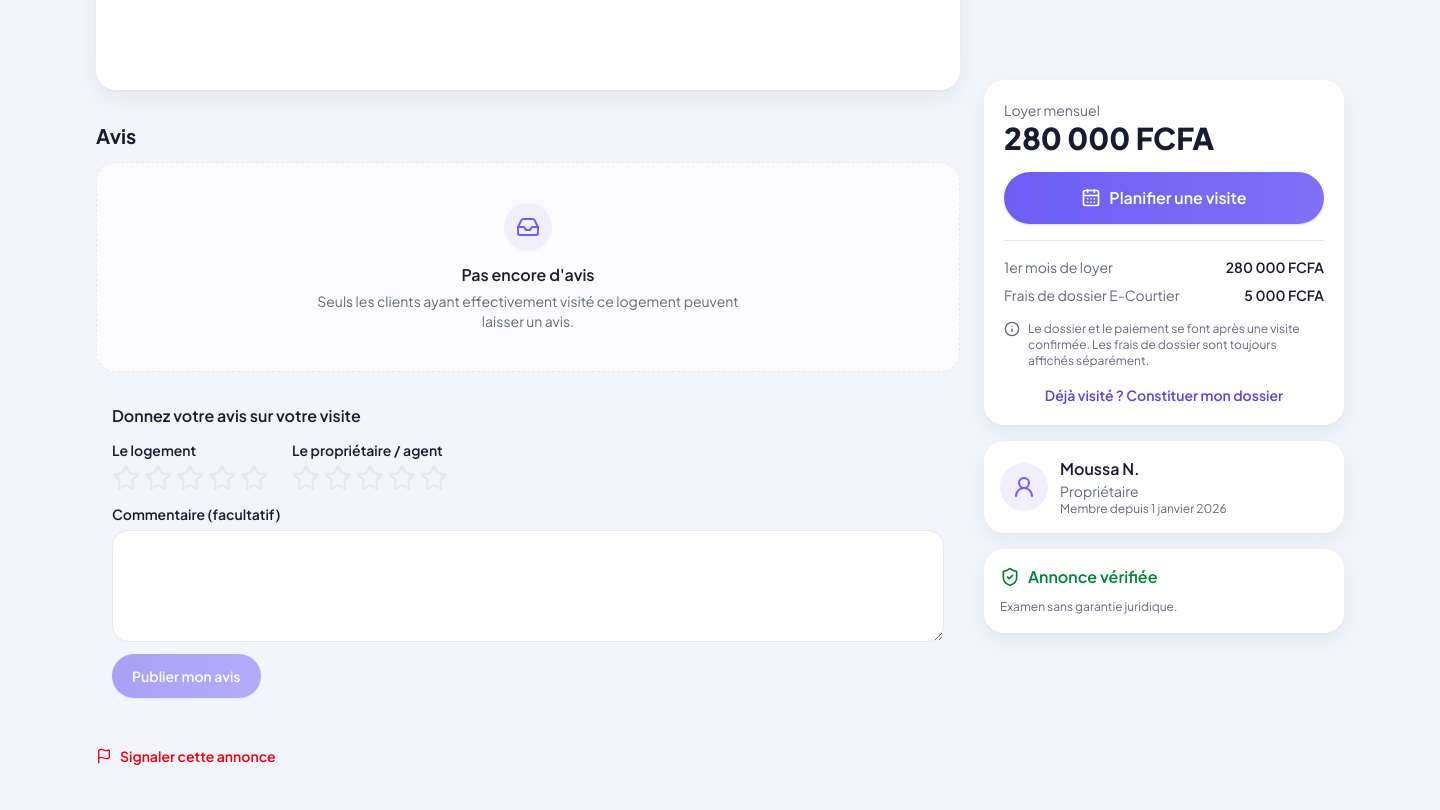
Test: Fiche logement › permet de signaler une annonce une fois connecté
(page scrolled)
Click the button "Signaler cette annonce" at {"x": 186, "y": 756}, box [96, 746, 276, 766]
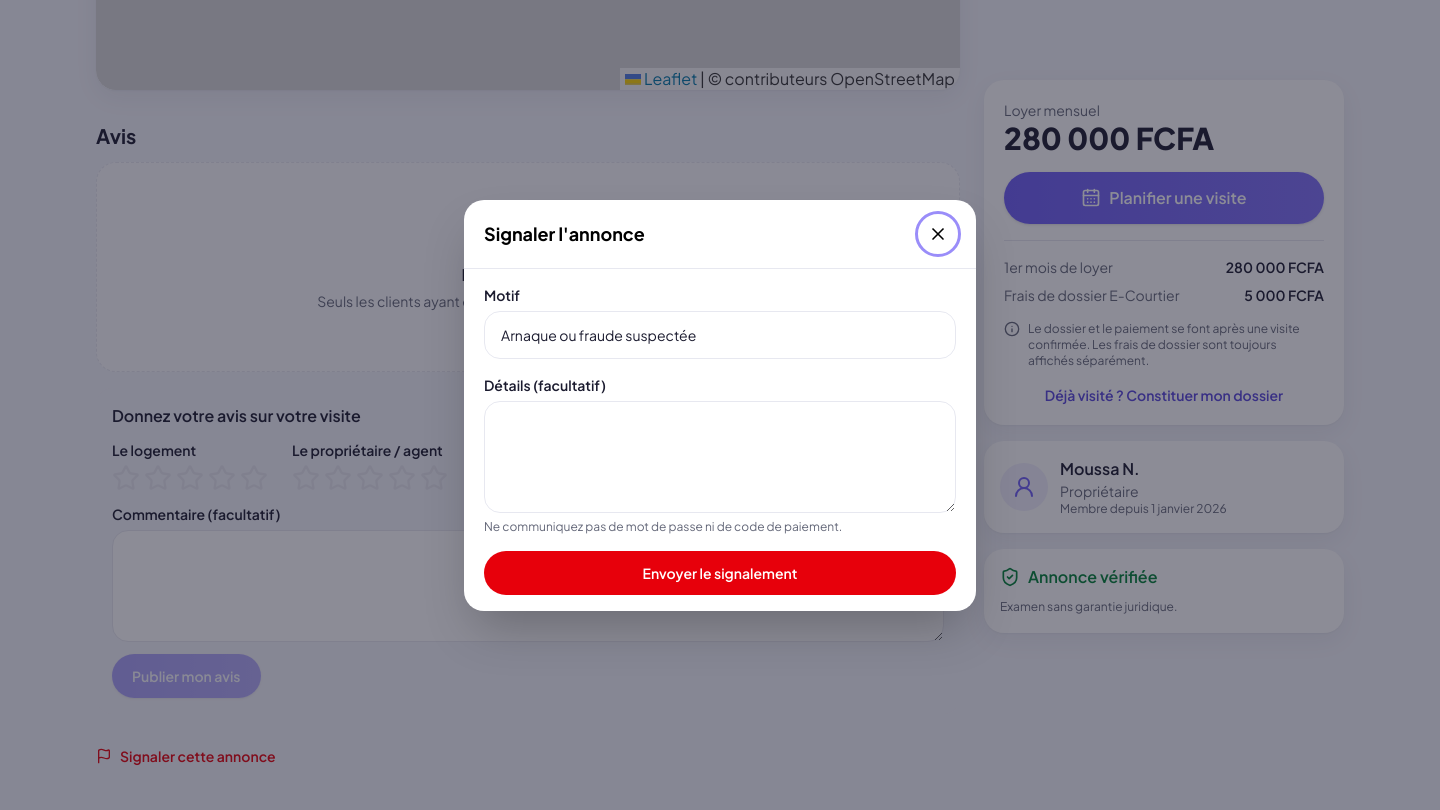
Click the button "Envoyer le signalement" at {"x": 720, "y": 572}, box [484, 550, 956, 594]
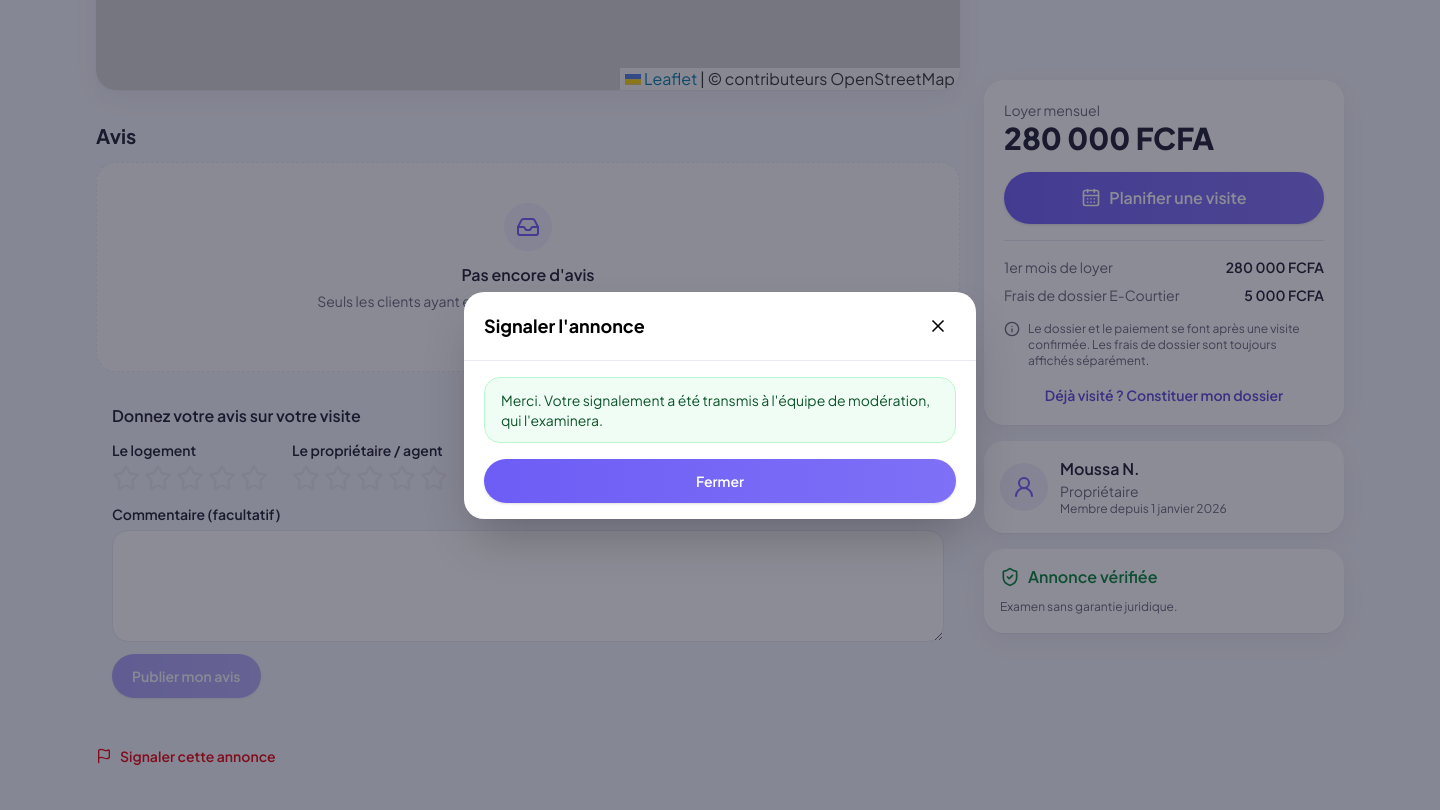
Expected: the text "Donnez votre avis sur votre visite" is shown, [112, 405, 361, 426]
Expected: the text "transmis à l'équipe de modération" is shown, [501, 390, 930, 428]
